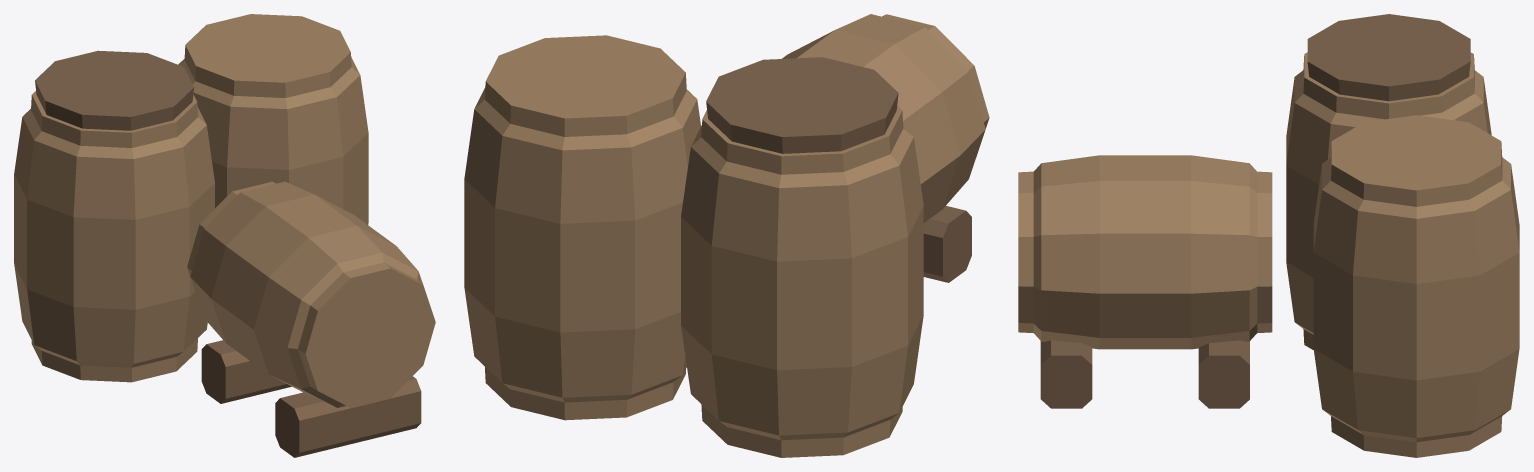
The model's file is barrel_stack.glb.
3 renders of one model, left to right at view 1: azimuth 30°, elevation 25°; view 2: azimuth 150°, elevation 25°; view 3: azimuth 270°, elevation 25°, orthographic. The views are drawn at different scales.
Visible parts, largest first — view 1: barrel_stack; view 2: barrel_stack; view 3: barrel_stack.
Boxes of the visible parts, x1,y1,x2,y2 form: barrel_stack: (14,14,435,457); barrel_stack: (464,14,989,457); barrel_stack: (1018,14,1519,457).
Size of the model in its own units: 1.23 by 0.91 by 1.46.
